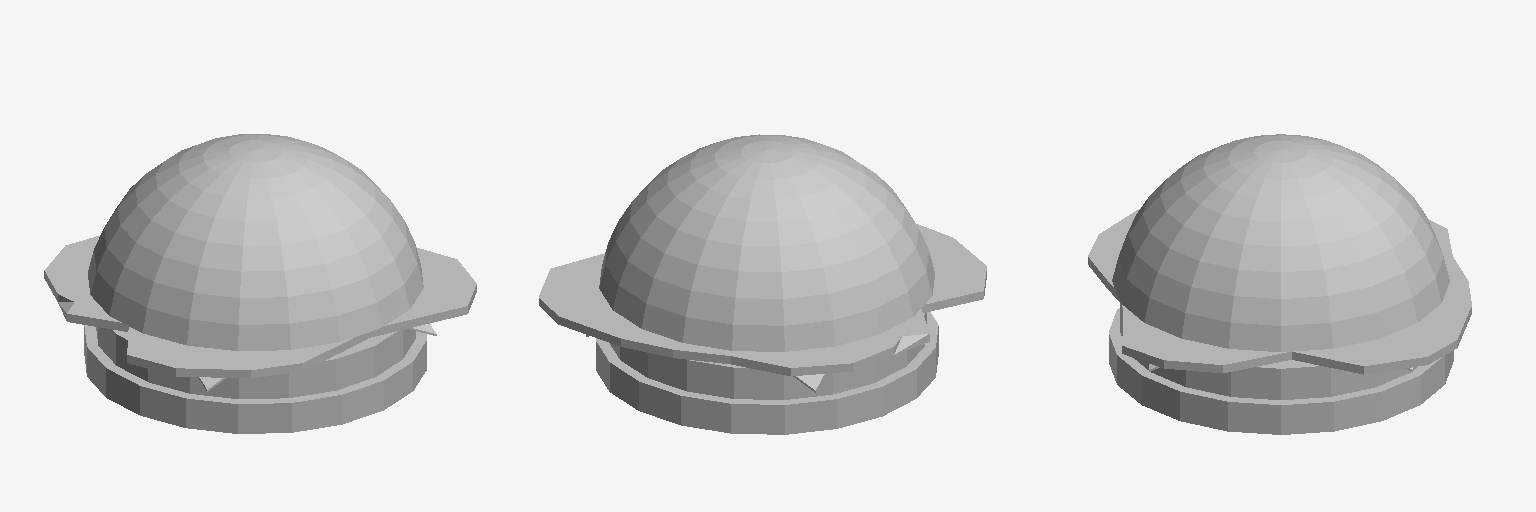
Rendered from Krabby_Patty.obj.
3 renders of one model, left to right at view 1: azimuth 30°, elevation 25°; view 2: azimuth 150°, elevation 25°; view 3: azimuth 270°, elevation 25°, orthographic.
Visible parts, largest first — view 1: Top_Bun, Lettuce, Bottom_Bun, Krabby_Patty; view 2: Top_Bun, Lettuce, Bottom_Bun, Krabby_Patty; view 3: Top_Bun, Lettuce, Bottom_Bun, Krabby_Patty.
Part boxes in pixels (x1,y1,x2,y2): Top_Bun: (88, 134, 423, 350); Lettuce: (44, 236, 476, 378); Bottom_Bun: (84, 325, 426, 433); Krabby_Patty: (96, 327, 415, 398); Top_Bun: (599, 134, 934, 351); Lettuce: (539, 224, 986, 375); Bottom_Bun: (596, 312, 938, 434); Krabby_Patty: (610, 313, 926, 399); Top_Bun: (1112, 134, 1449, 351); Lettuce: (1088, 208, 1471, 374); Bottom_Bun: (1109, 308, 1453, 434); Krabby_Patty: (1120, 303, 1416, 399).
Size of the model in its own units: 8.88 by 5.13 by 8.42.